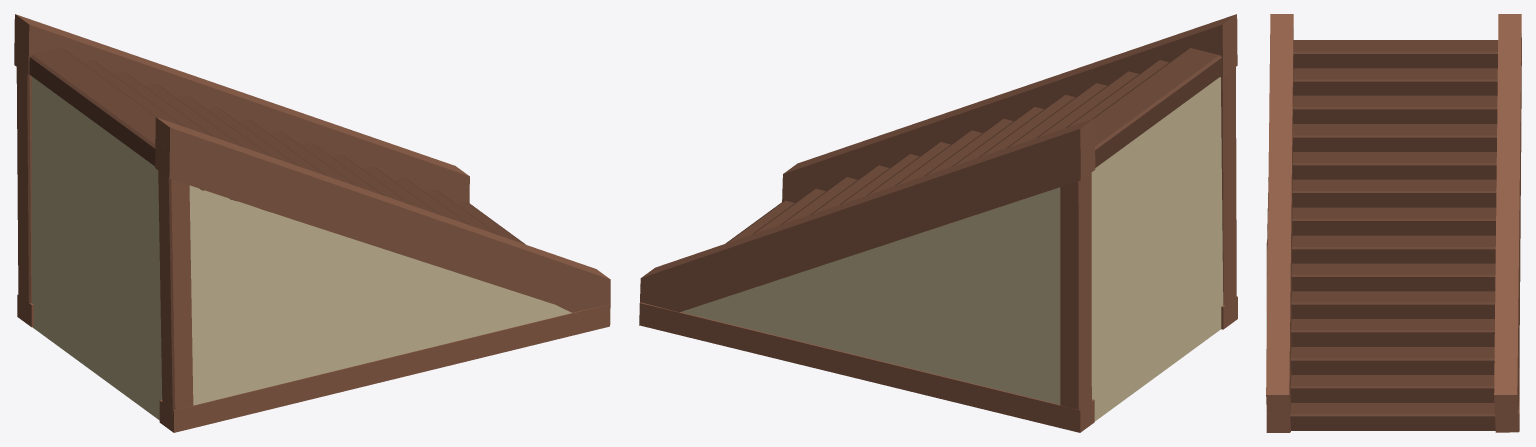
File: stairs.fbx
3 views of the same model, side by side, from view 1: azimuth 30°, elevation 25°; view 2: azimuth 150°, elevation 25°; view 3: azimuth 270°, elevation 25° (orthographic). The views are drawn at different scales.
Visible parts, largest first — view 1: wall_01.011; view 2: wall_01.011; view 3: wall_01.011.
Part boxes in pixels (left/top/right/bottom): wall_01.011: left=14, top=14, right=610, bottom=432; wall_01.011: left=639, top=14, right=1237, bottom=432; wall_01.011: left=1266, top=14, right=1521, bottom=432.
Bounding box in the file's own units: 3.3 × 2.18 × 2.06.
